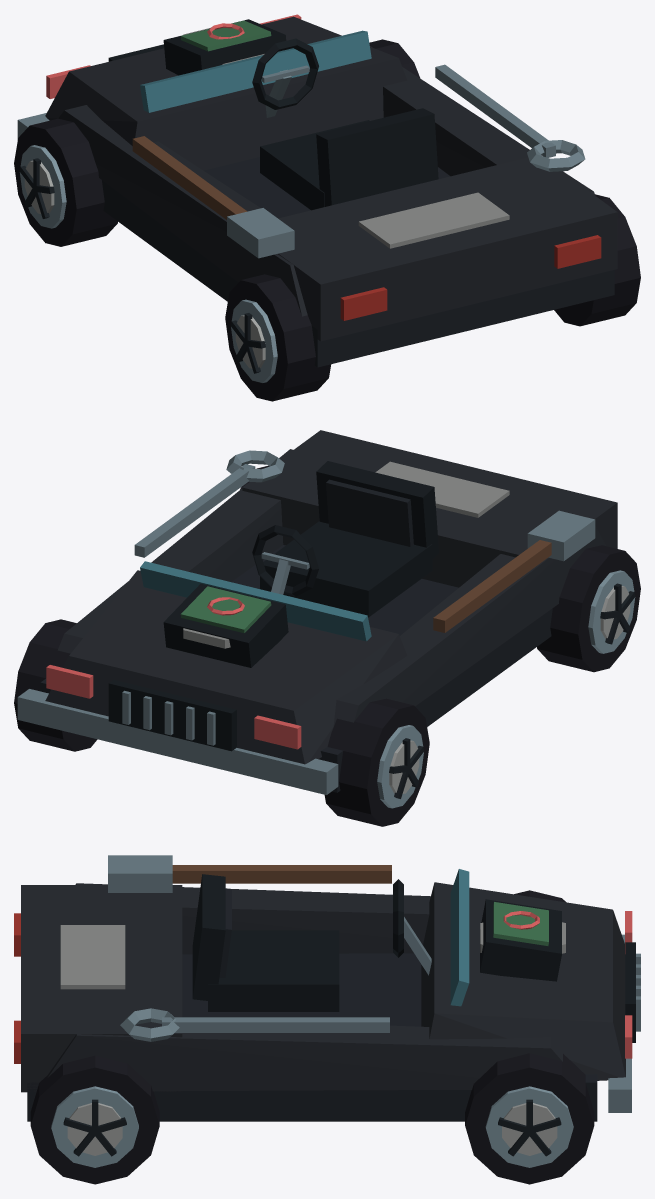
Rendered from kart.glb.
3 views of the same model, one above another, from view 1: azimuth 30°, elevation 25°; view 2: azimuth 150°, elevation 25°; view 3: azimuth 270°, elevation 25° (orthographic). The views are drawn at different scales.
Visible parts, largest first — view 1: identity-sedan-sedan-road-car-body, identity-sedan-driver-cockpit, wheel-front-left, wheel-rear-left, identity-sedan-motif-tools, identity-sedan-motif-scanner, wheel-rear-right, wheel-front-right; view 2: identity-sedan-sedan-road-car-body, identity-sedan-driver-cockpit, wheel-front-left, wheel-rear-left, identity-sedan-motif-tools, identity-sedan-motif-scanner, wheel-front-right; view 3: identity-sedan-sedan-road-car-body, identity-sedan-driver-cockpit, wheel-front-right, wheel-rear-right, identity-sedan-motif-tools, identity-sedan-motif-scanner.
Part boxes in pixels (x1,y1,x2,y2): identity-sedan-sedan-road-car-body: (17, 14, 617, 367); identity-sedan-driver-cockpit: (252, 38, 438, 210); wheel-front-left: (14, 118, 117, 246); wheel-rear-left: (225, 274, 331, 401); identity-sedan-motif-tools: (132, 64, 585, 258); identity-sedan-motif-scanner: (163, 19, 286, 75); wheel-rear-right: (554, 194, 640, 326); wheel-front-right: (369, 39, 419, 77); identity-sedan-sedan-road-car-body: (17, 430, 617, 794); identity-sedan-driver-cockpit: (252, 461, 438, 617); wheel-front-left: (324, 698, 429, 826); wheel-rear-left: (537, 545, 640, 672); identity-sedan-motif-tools: (134, 450, 595, 632); identity-sedan-motif-scanner: (163, 583, 288, 667); wheel-front-right: (14, 619, 97, 751); identity-sedan-sedan-road-car-body: (14, 869, 640, 1121); identity-sedan-driver-cockpit: (192, 874, 431, 1011); wheel-front-right: (465, 1053, 594, 1184); wheel-rear-right: (30, 1055, 159, 1184); identity-sedan-motif-tools: (108, 855, 391, 1041); identity-sedan-motif-scanner: (480, 899, 561, 981).
Size of the model in its own units: 2.07 by 1.09 by 2.92.
